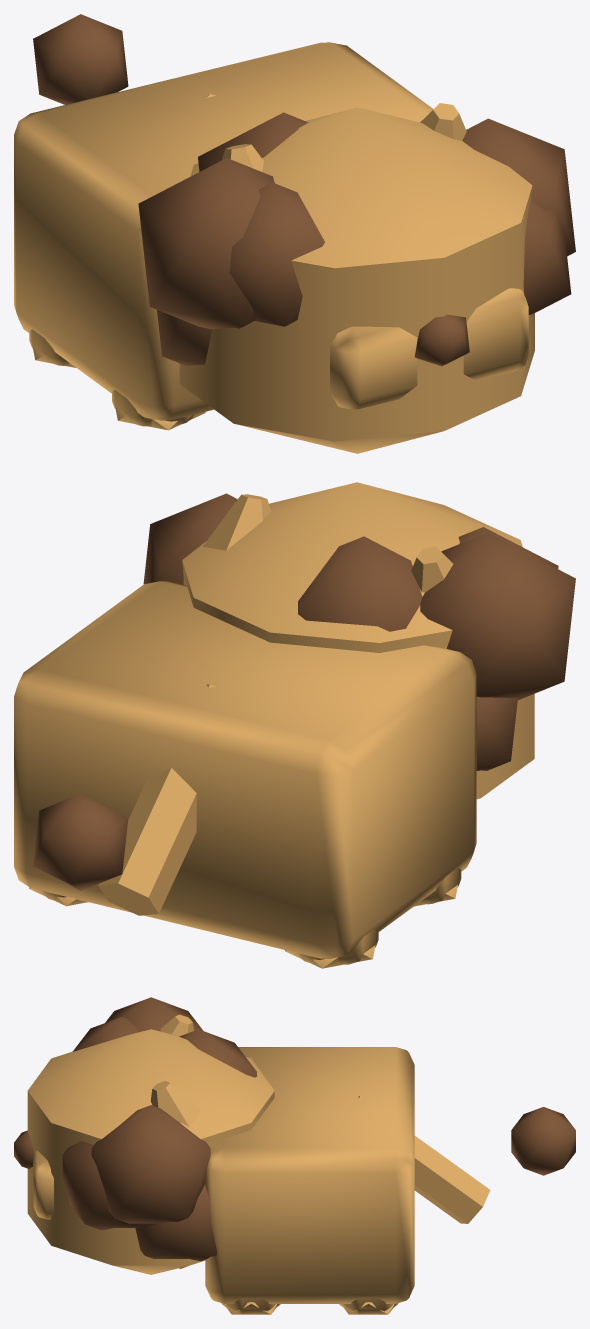
File: v_test_lion.glb
3 views of the same model, one above another, from view 1: azimuth 30°, elevation 25°; view 2: azimuth 150°, elevation 25°; view 3: azimuth 270°, elevation 25° (orthographic). The views are drawn at different scales.
Visible parts, largest first — view 1: Creature_lion; view 2: Creature_lion; view 3: Creature_lion.
Part boxes in pixels (box(x1,y1,x2,y2)): Creature_lion: box(14, 14, 575, 453); Creature_lion: box(14, 482, 575, 968); Creature_lion: box(14, 997, 575, 1314).
Bounding box in the file's own units: 0.7497 × 0.5985 × 1.24.
